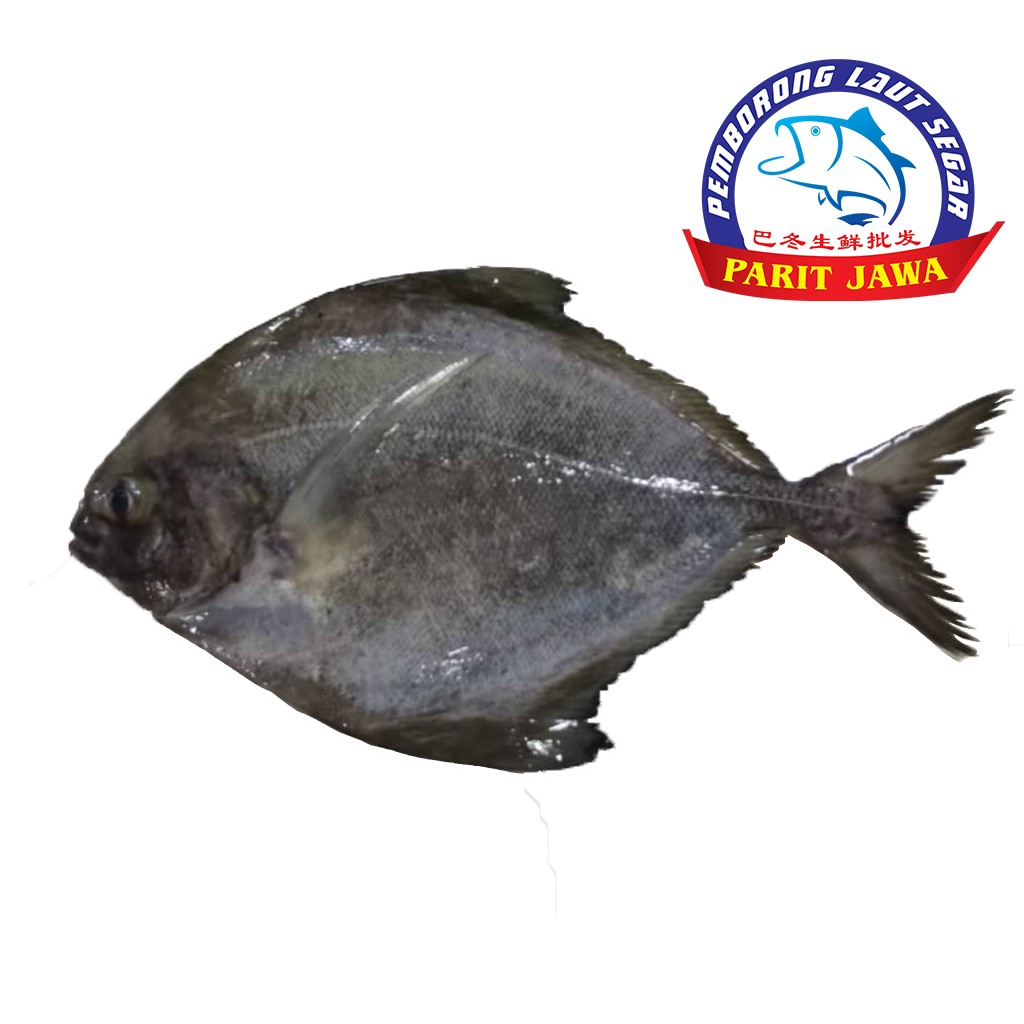Ikan Bawal: (41, 255, 1010, 782)
